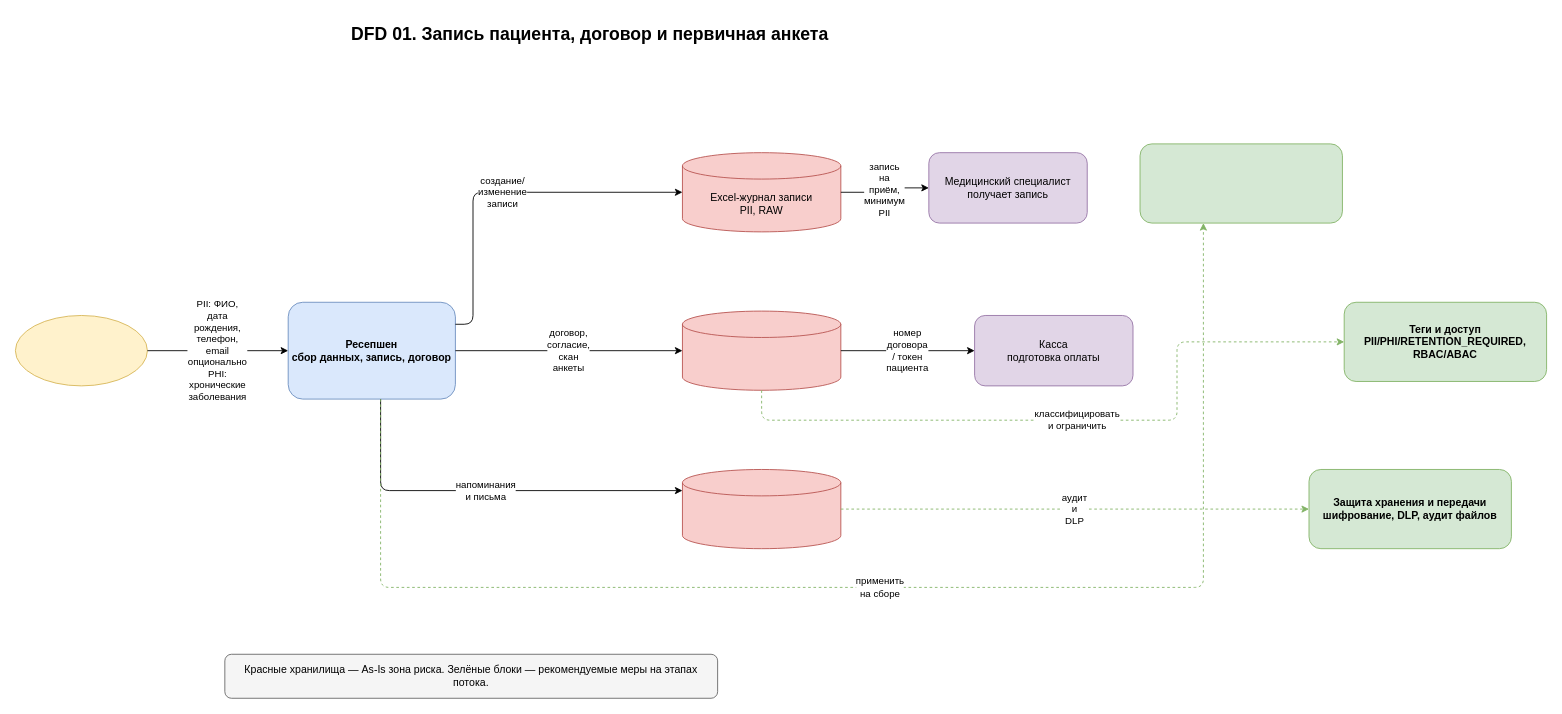
The diagram is 1562 pixels wide and 714 high, and some of its shapes have lost their labels. Each missing label, with the centre of its shape:
"Exchange / Outlook напоминания, письма" goes at (x=761, y=509).
"Контроль сбора минимизация полей, согласия, цель обработки" goes at (x=1240, y=183).
"Общий диск сканы JPG/PDF, анкеты" goes at (x=761, y=350).
"Пациент внешний субъект" goes at (x=81, y=350).
